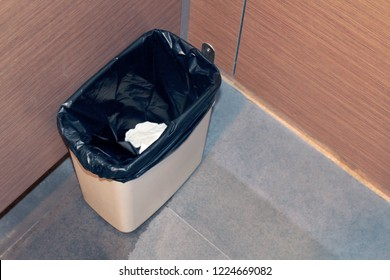Tissue: (117, 119, 171, 155)
